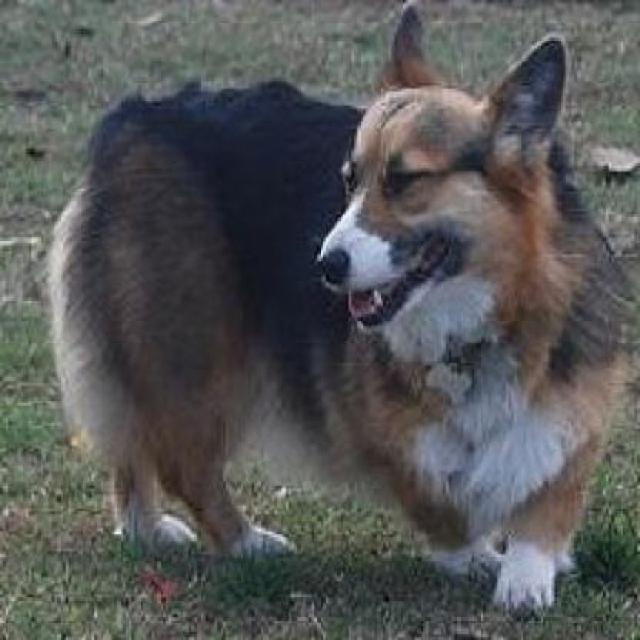Dog: (51, 1, 638, 638)
